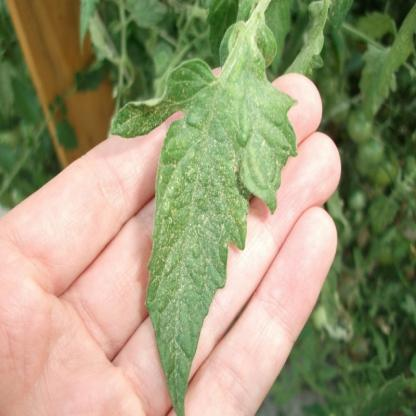Tomato mold leaf: (107, 38, 282, 414)
